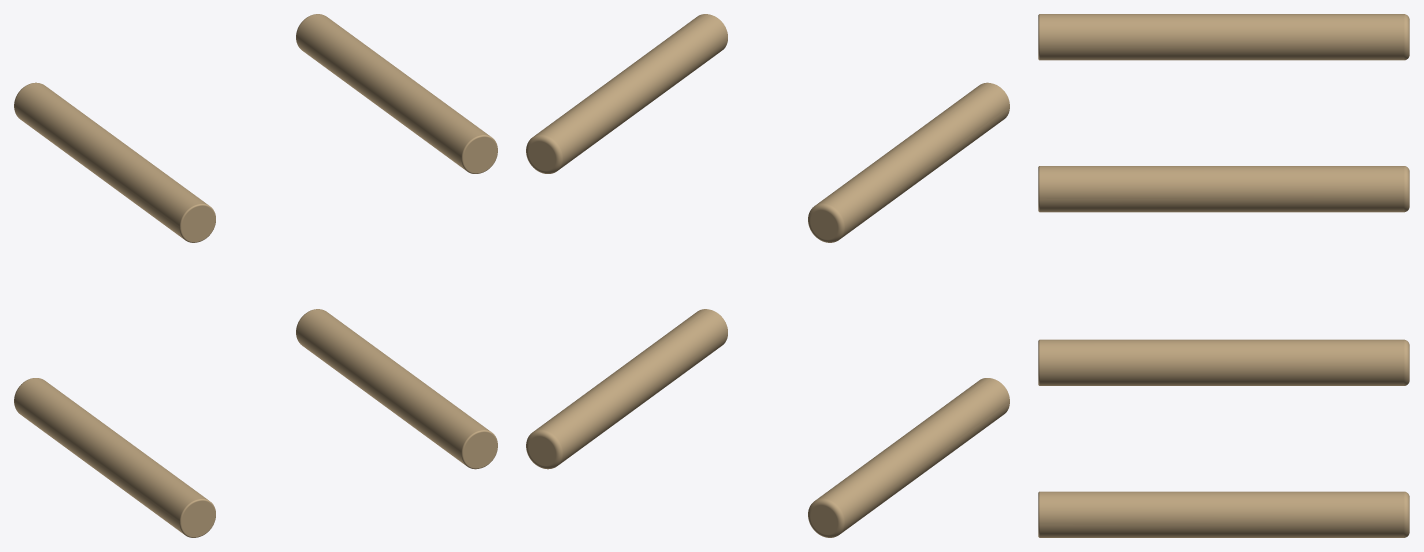
3 views of the same model, side by side, from view 1: azimuth 30°, elevation 25°; view 2: azimuth 150°, elevation 25°; view 3: azimuth 270°, elevation 25° (orthographic). The views are drawn at different scales.
Visible parts, largest first — view 1: shell_5, shell_3, shell_1, shell_7; view 2: shell_3, shell_5, shell_1, shell_7; view 3: shell_1, shell_3, shell_5, shell_7.
Part boxes in pixels (box(x1,y1,x2,y2)): shell_5: box(296, 309, 497, 469); shell_3: box(14, 82, 215, 242); shell_1: box(296, 14, 497, 173); shell_7: box(14, 378, 215, 537); shell_3: box(808, 82, 1009, 242); shell_5: box(526, 309, 727, 469); shell_1: box(526, 14, 727, 173); shell_7: box(808, 378, 1009, 537); shell_1: box(1038, 166, 1409, 212); shell_3: box(1038, 14, 1409, 60); shell_5: box(1038, 491, 1409, 537); shell_7: box(1038, 339, 1409, 385).
Bounding box in the file's own units: 0.7 × 0.7 × 0.6407.
